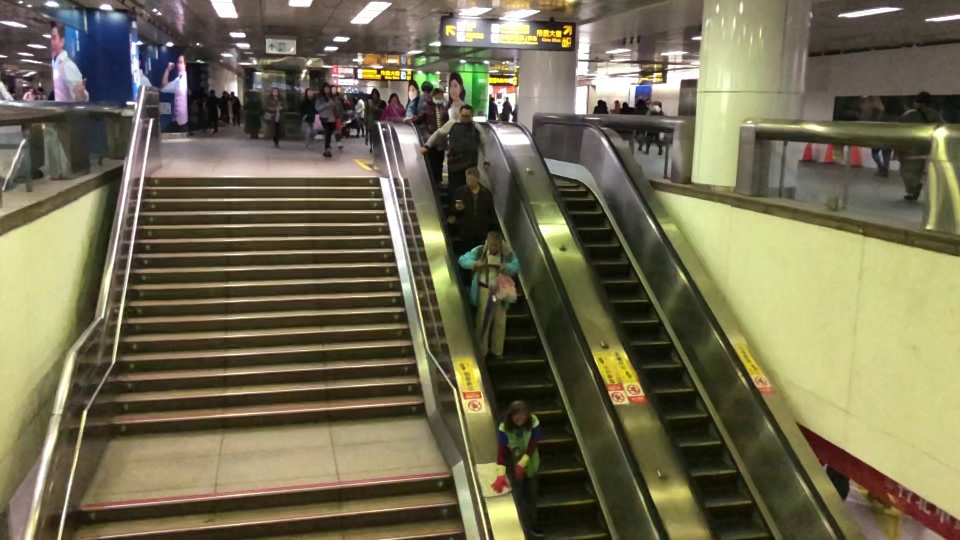person_head: (508, 400, 529, 428), (484, 230, 504, 255), (464, 165, 481, 190), (912, 89, 932, 109), (457, 103, 474, 124), (420, 79, 434, 98), (431, 87, 445, 106), (883, 98, 896, 113), (388, 91, 401, 105), (329, 83, 339, 97), (370, 87, 380, 100), (304, 88, 314, 98), (321, 82, 330, 93), (271, 86, 279, 98), (651, 100, 663, 108), (621, 101, 628, 108)
person_vbox: (456, 230, 521, 364), (419, 104, 491, 224), (490, 399, 545, 538), (450, 166, 501, 285), (894, 90, 944, 201), (409, 88, 450, 188), (871, 97, 897, 178), (315, 82, 336, 157), (364, 87, 386, 152), (265, 86, 288, 148), (329, 83, 348, 151), (300, 88, 320, 151), (643, 100, 665, 155), (405, 80, 435, 118), (618, 100, 638, 157), (381, 92, 407, 118)
